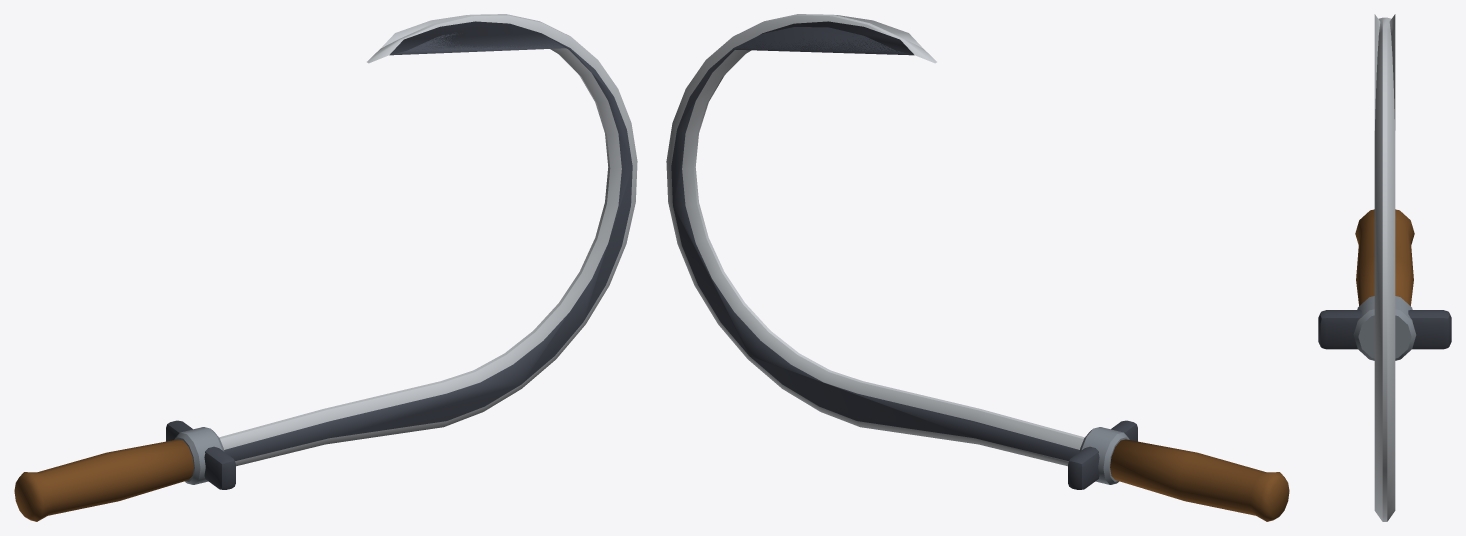
Rendered from sword_sickle.glb.
3 views of the same model, side by side, from view 1: azimuth 30°, elevation 25°; view 2: azimuth 150°, elevation 25°; view 3: azimuth 270°, elevation 25° (orthographic). The views are drawn at different scales.
Parts seen in each view (by area): view 1: sword_sickle; view 2: sword_sickle; view 3: sword_sickle.
Boxes of the visible parts, box(x1,y1,x2,y2) form: sword_sickle: box(14, 14, 637, 521); sword_sickle: box(666, 14, 1289, 521); sword_sickle: box(1318, 14, 1451, 521).
Bounding box in the file's own units: 1.04 × 0.6575 × 0.17.
